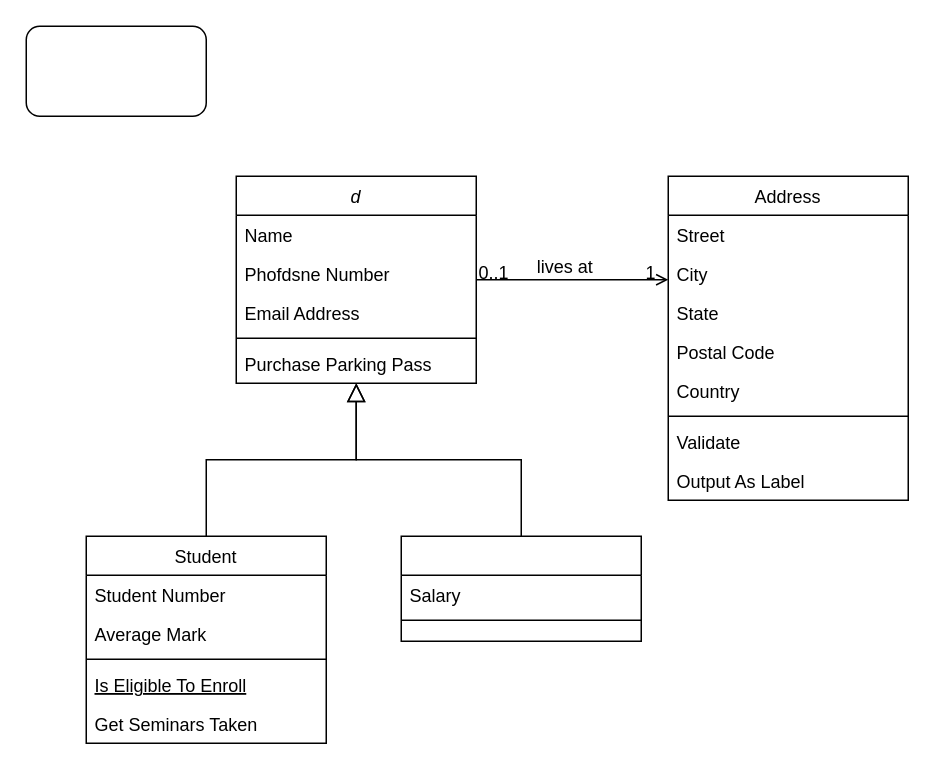
The diagram is 935 pixels wide and 774 high, and some of its shapes have lost their labels. Here are the shapes that lost their labels. From the top down, the box of each, then its label:
(25, 25, 206, 116): 안녕하세요 보미
(400, 535, 641, 641): Professor
